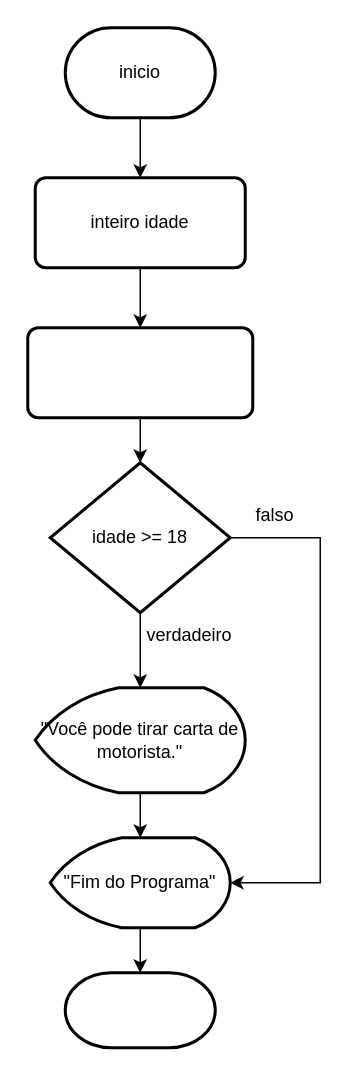
The diagram is 359 pixels wide and 1074 high, and some of its shapes have lost their labels. The shapes that lost their labels are listed below. From the top down, each one's centre as x and y in pixels, then its label:
point 140,372: idade = 16
point 139,1009: fim
